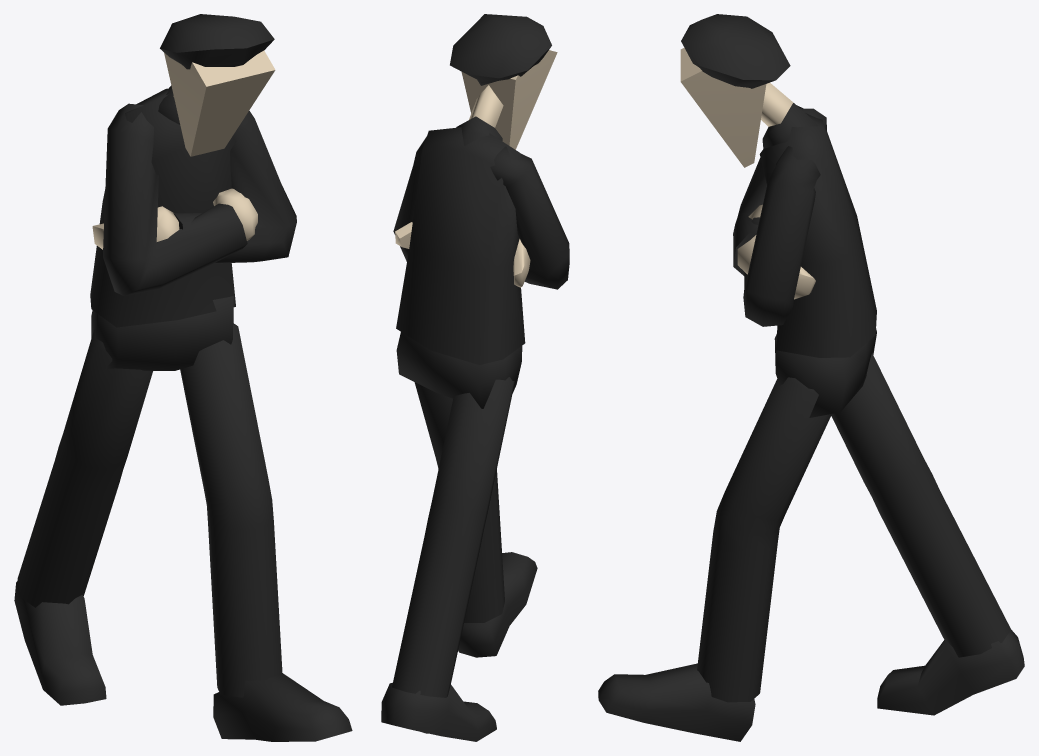
Rendered from mesh_CampPrisoner_b.fbx.
3 renders of one model, left to right at view 1: azimuth 30°, elevation 25°; view 2: azimuth 150°, elevation 25°; view 3: azimuth 270°, elevation 25°, orthographic. The views are drawn at different scales.
Parts seen in each view (by area): view 1: PrisonerB; view 2: PrisonerB; view 3: PrisonerB.
Part boxes in pixels (left/top/right/bottom): PrisonerB: left=14, top=14, right=352, bottom=741; PrisonerB: left=381, top=14, right=569, bottom=741; PrisonerB: left=598, top=14, right=1024, bottom=741.
Bounding box in the file's own units: 25.64 × 95.04 × 52.61.
